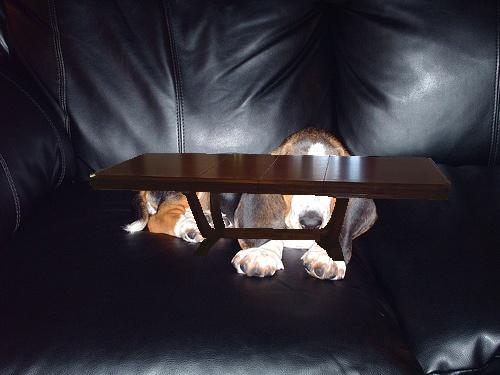tampered: (91, 154, 451, 261)
